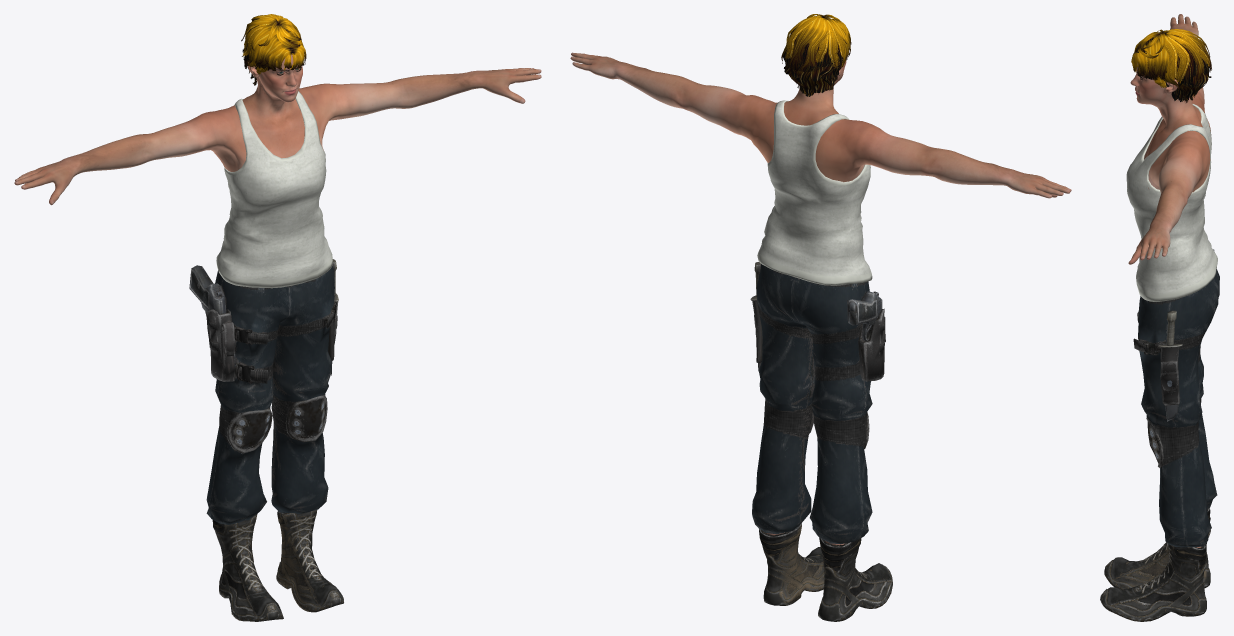
Rendered from GraceDefault-OBJ.obj.
3 views of the same model, side by side, from view 1: azimuth 30°, elevation 25°; view 2: azimuth 150°, elevation 25°; view 3: azimuth 270°, elevation 25° (orthographic). The views are drawn at different scales.
Visible parts, largest first — view 1: Bottoms, Body, Tops, Shoes, Hair; view 2: Bottoms, Body, Tops, Shoes, Hair; view 3: Bottoms, Tops, Body, Shoes, Hair.
Part boxes in pixels (left/top/right/bottom): Bottoms: left=189, top=259, right=338, bottom=524; Body: left=14, top=49, right=541, bottom=205; Tops: left=216, top=91, right=333, bottom=288; Shoes: left=212, top=510, right=343, bottom=621; Hair: left=241, top=14, right=306, bottom=85; Bottoms: left=750, top=262, right=885, bottom=544; Body: left=570, top=52, right=1071, bottom=545; Tops: left=757, top=100, right=872, bottom=285; Shoes: left=759, top=523, right=892, bottom=621; Hair: left=781, top=14, right=851, bottom=96; Bottoms: left=1133, top=249, right=1219, bottom=547; Tops: left=1126, top=104, right=1217, bottom=301; Body: left=1128, top=14, right=1210, bottom=547; Shoes: left=1100, top=507, right=1210, bottom=621; Hair: left=1131, top=29, right=1211, bottom=102.
Size of the model in its own units: 176 by 191 by 36.42.
5 materials, 5 textured.
